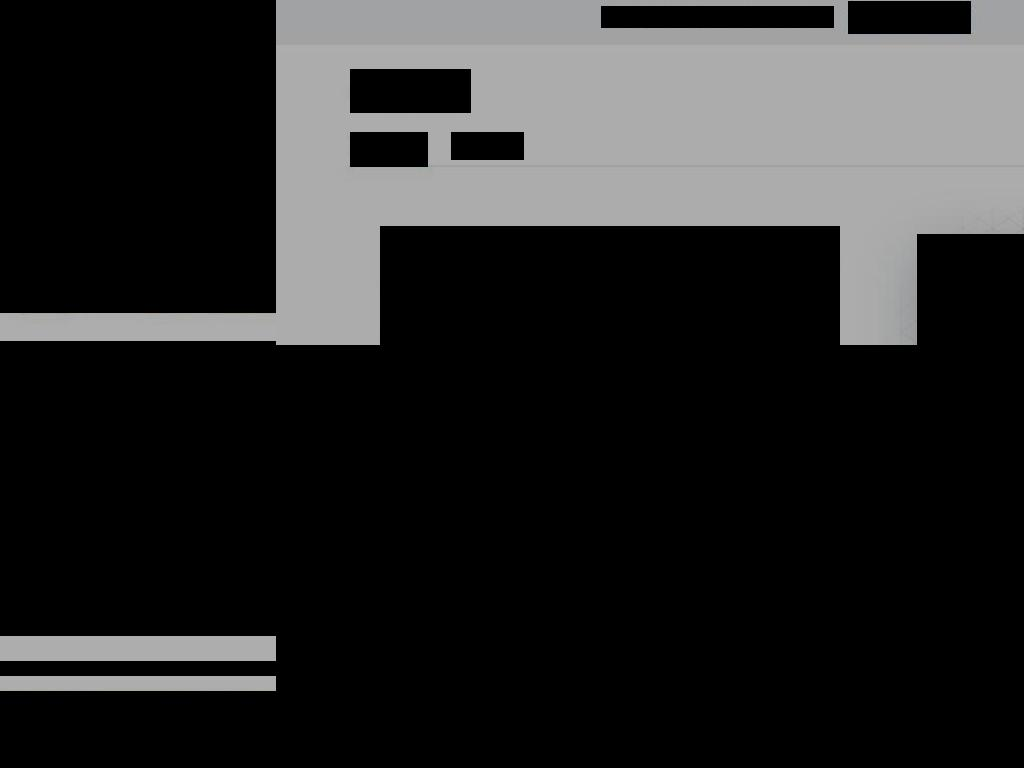button: (925, 405, 1024, 705), (0, 172, 232, 222), (358, 583, 532, 648), (546, 583, 720, 648), (734, 583, 908, 648), (358, 680, 532, 745), (546, 680, 720, 745), (734, 680, 908, 744), (350, 69, 471, 113), (848, 1, 971, 34), (350, 132, 428, 167), (0, 249, 131, 267), (276, 560, 332, 594), (276, 593, 332, 627), (276, 626, 332, 660), (276, 659, 332, 693), (276, 692, 332, 726), (276, 725, 332, 759), (67, 345, 138, 362), (166, 345, 228, 362), (344, 404, 375, 435), (884, 404, 915, 435), (285, 533, 319, 555), (0, 345, 39, 362), (925, 762, 1024, 768), (276, 758, 332, 768), (768, 509, 781, 523), (785, 509, 798, 523), (802, 509, 815, 523), (819, 509, 832, 523), (836, 509, 849, 523), (853, 509, 866, 523), (870, 509, 883, 523), (887, 509, 900, 523)
heading: (276, 345, 1024, 768), (380, 226, 840, 345), (380, 226, 575, 311), (574, 226, 754, 311), (0, 0, 276, 55), (0, 661, 276, 676), (353, 539, 473, 568), (372, 754, 517, 767), (384, 657, 506, 670), (574, 657, 691, 670), (578, 754, 688, 767), (766, 753, 876, 766), (769, 657, 872, 670), (934, 383, 995, 402)
iframe: (0, 386, 276, 636)
image: (276, 345, 1024, 729), (349, 345, 910, 530), (0, 0, 276, 313), (909, 345, 1024, 530), (276, 345, 350, 530), (358, 583, 530, 646), (546, 583, 718, 646), (734, 583, 906, 646), (358, 680, 530, 743), (546, 680, 718, 743), (734, 680, 906, 742), (276, 345, 333, 530), (350, 74, 447, 108), (925, 345, 1024, 365), (925, 762, 1024, 768)
text: (0, 173, 215, 221), (0, 71, 276, 96), (0, 362, 276, 386), (601, 6, 834, 28), (0, 249, 131, 266), (350, 132, 428, 160), (451, 132, 524, 160)
